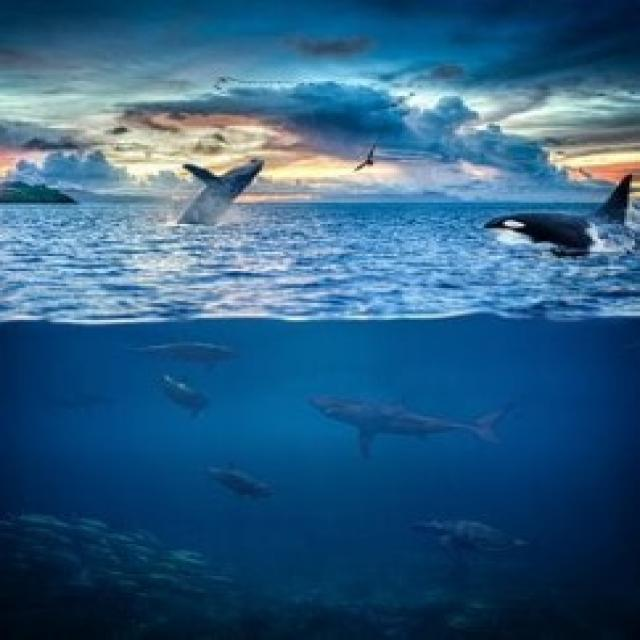Dolphin: (239, 364, 640, 449), (470, 166, 640, 262), (166, 153, 274, 236), (402, 510, 546, 558), (194, 456, 280, 506), (121, 331, 241, 364)
